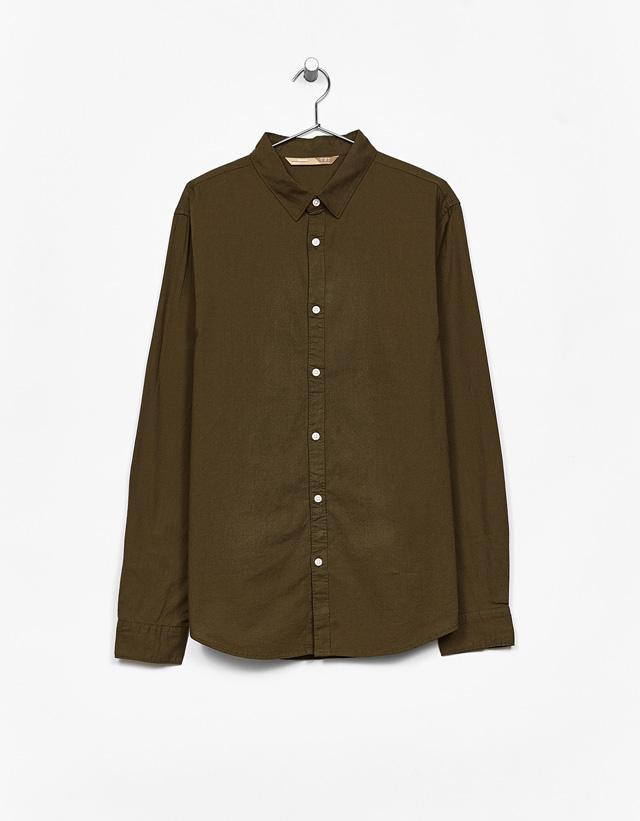teeshirt: (105, 127, 539, 710)
